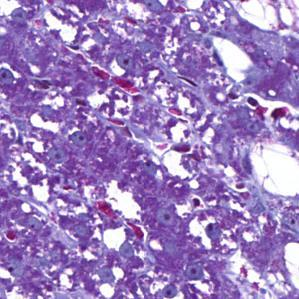ballooning: (247, 141, 296, 200), (227, 5, 294, 43)
